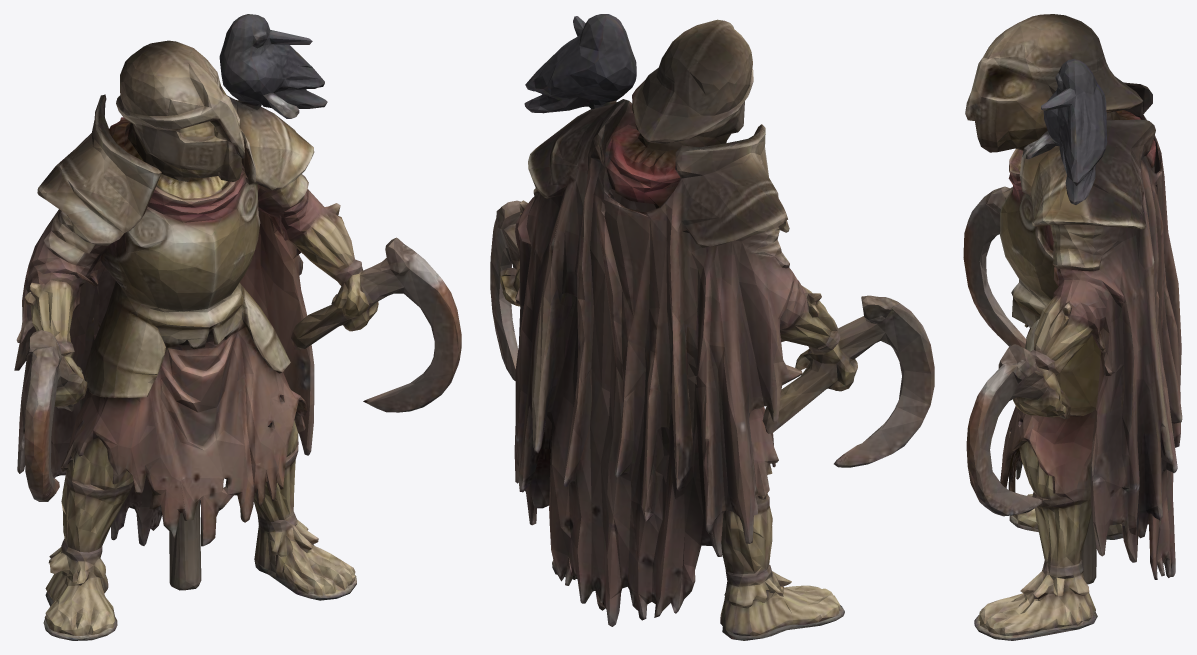
Rendered from scarecrowReaver.glb.
The picture shows the model from 3 angles, left to right: view 1: azimuth 30°, elevation 25°; view 2: azimuth 150°, elevation 25°; view 3: azimuth 270°, elevation 25°; orthographic projection. The views are drawn at different scales.
Visible parts, largest first — view 1: world; view 2: world; view 3: world.
Boxes of the visible parts, x1,y1,x2,y2 form: world: (14,14,461,640); world: (490,14,934,640); world: (963,14,1182,640).
Bounding box in the file's own units: 0.8194 × 1 × 0.3621.
1 material, 1 textured.
